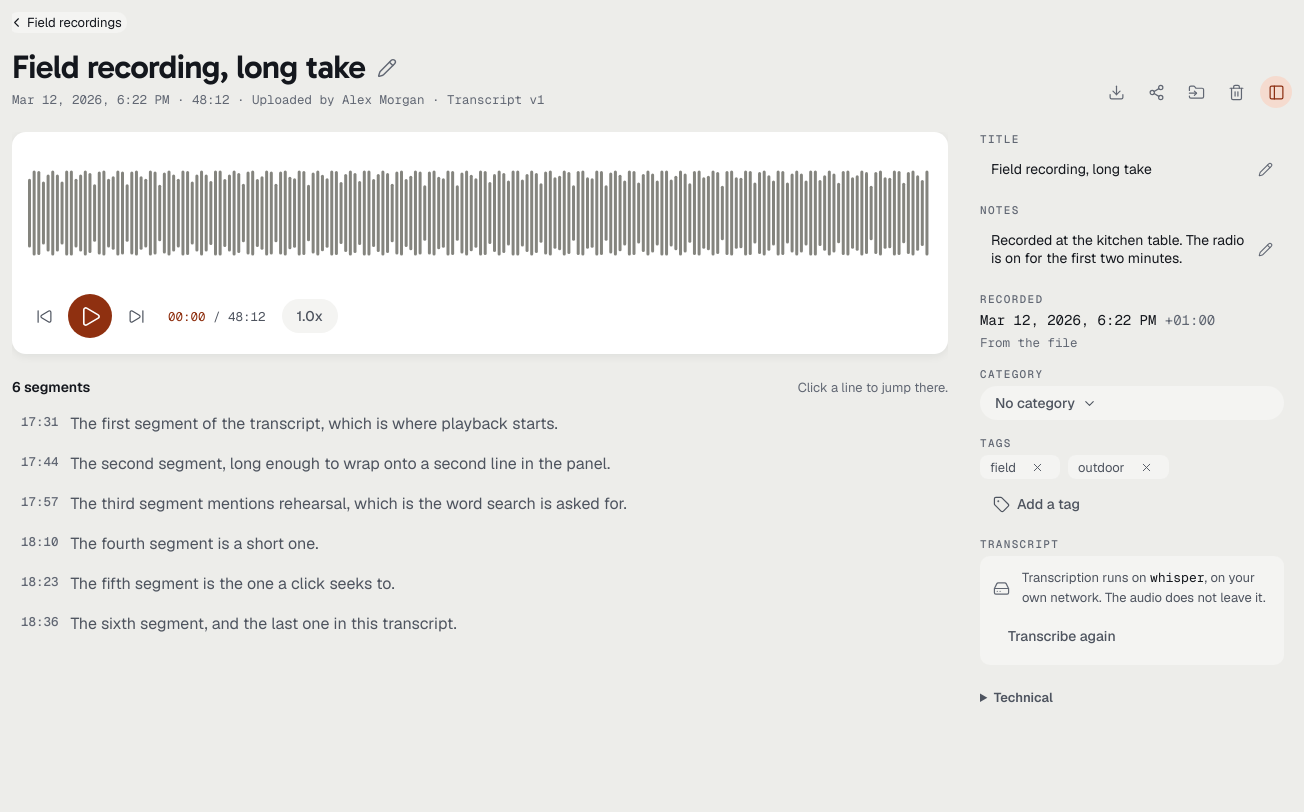
Test: the panel itself › folds away, and gives the transcript the width
The width and height of the screenshot is (1304, 812).
Expected: the element named "Details" is shown, [972,132,1292,714]
Step 1. Click the button named "Hide the details" → (1276, 92), box [1260,76,1292,108]
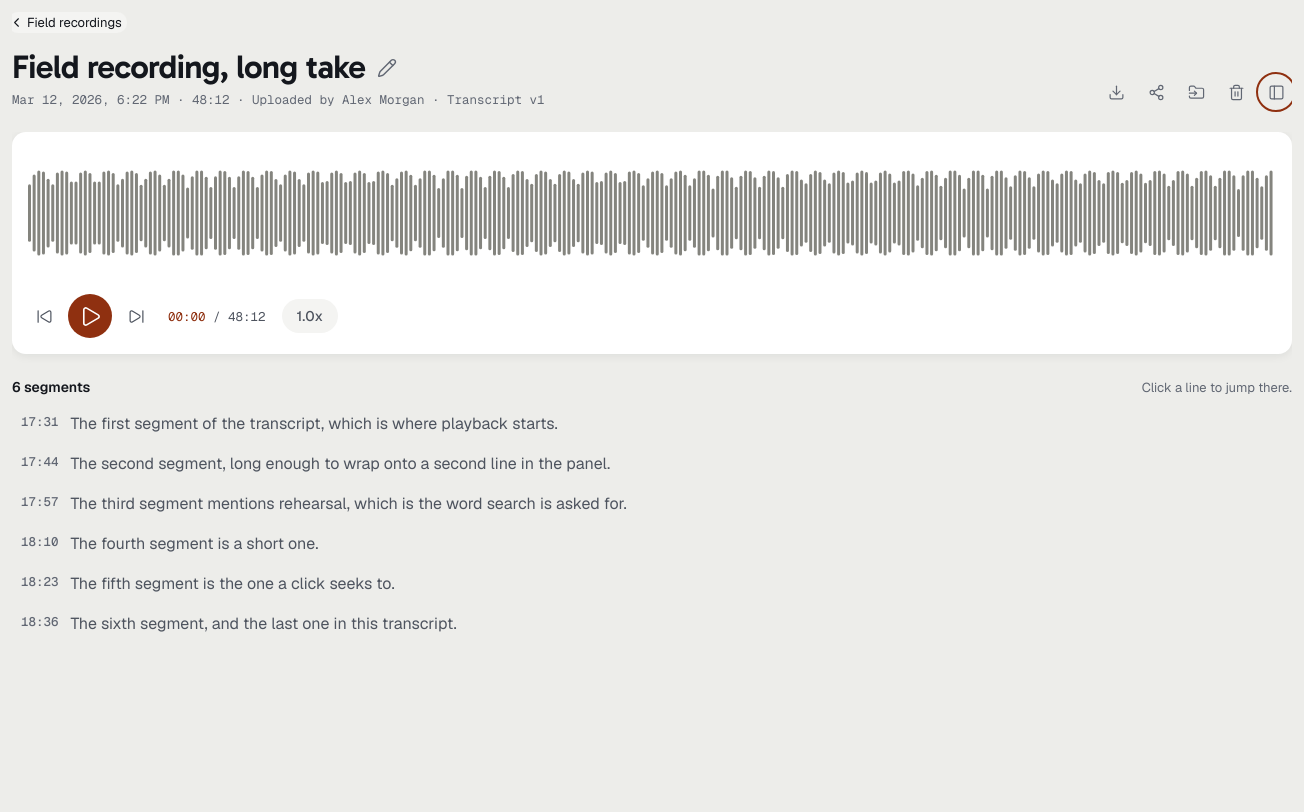
Expected: the element "Details" is gone
Step 2. Click the button named "Show the details" → (1276, 92), box [1260,76,1292,108]
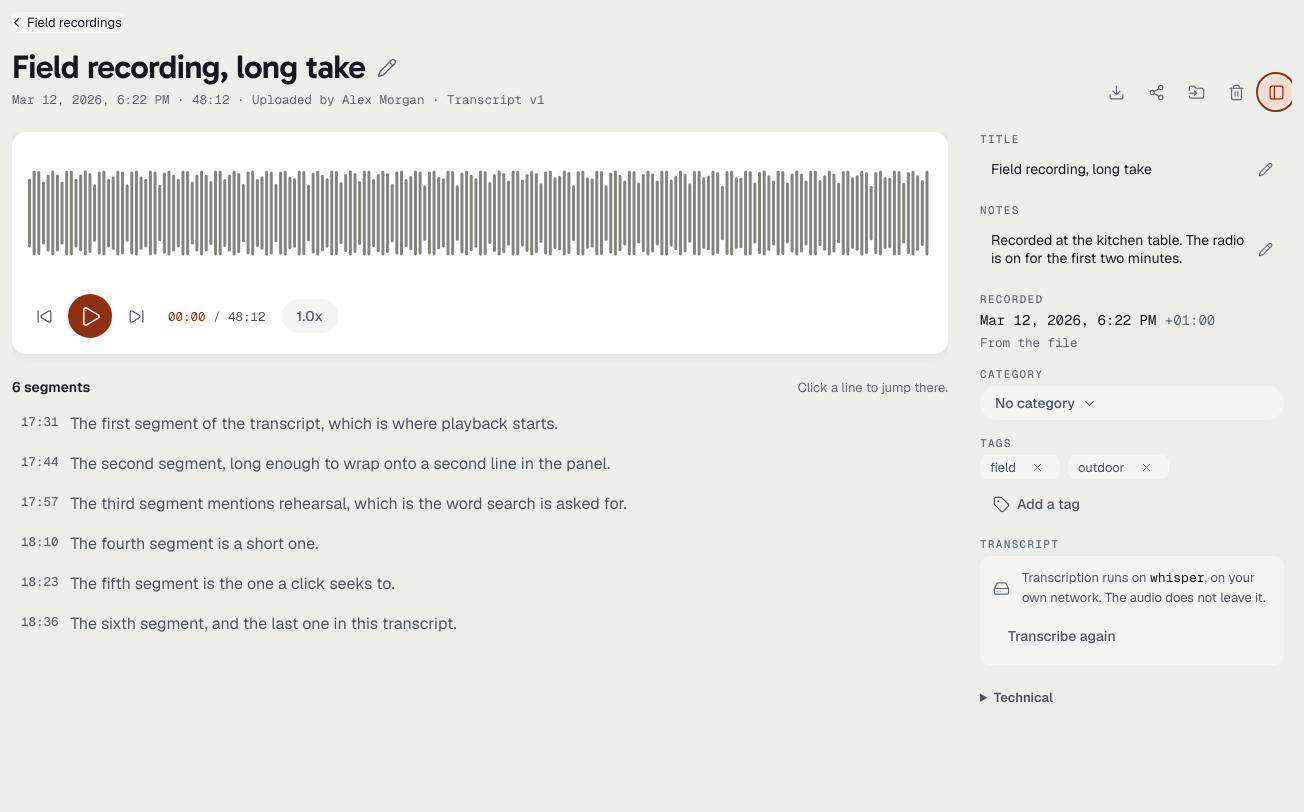
Expected: the element named "Details" is shown, [972,132,1292,714]
